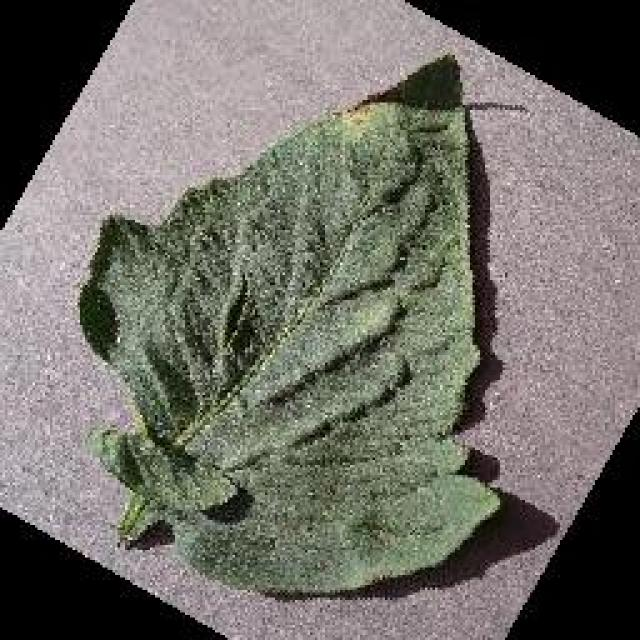Tomato___Target_Spot: (80, 58, 498, 592)
